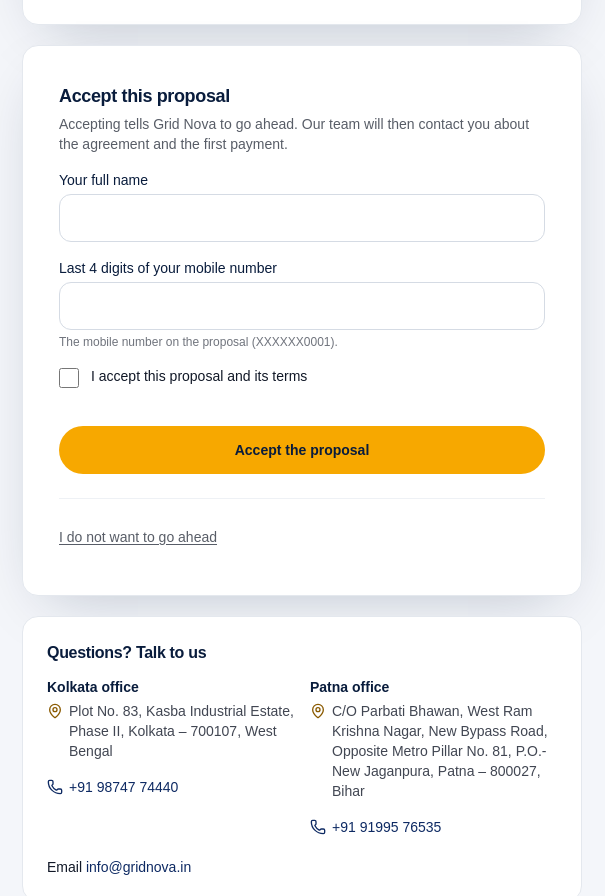
it: the online proposal page › the box must be ticked and the name given before anything is sent
This screenshot has width=605, height=896.
(page scrolled)
Click the button with test id "accept-submit".
click(302, 450)  # box [59,426,545,474]
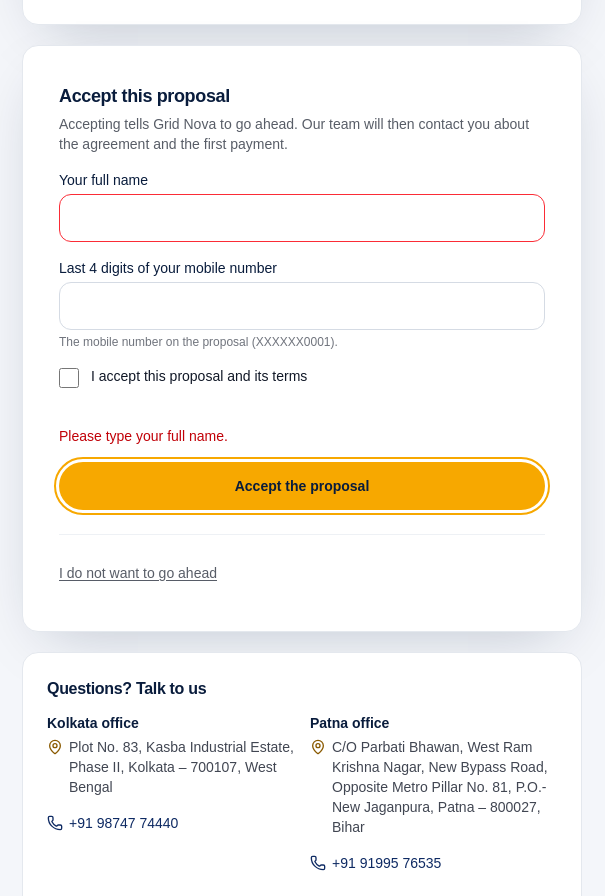
expect the message reads "Please type your full name.": met, box [59,428,228,444]
Type "T" into the field labelled "Your full name".
click(302, 218); type("T")  # box [59,194,545,242]
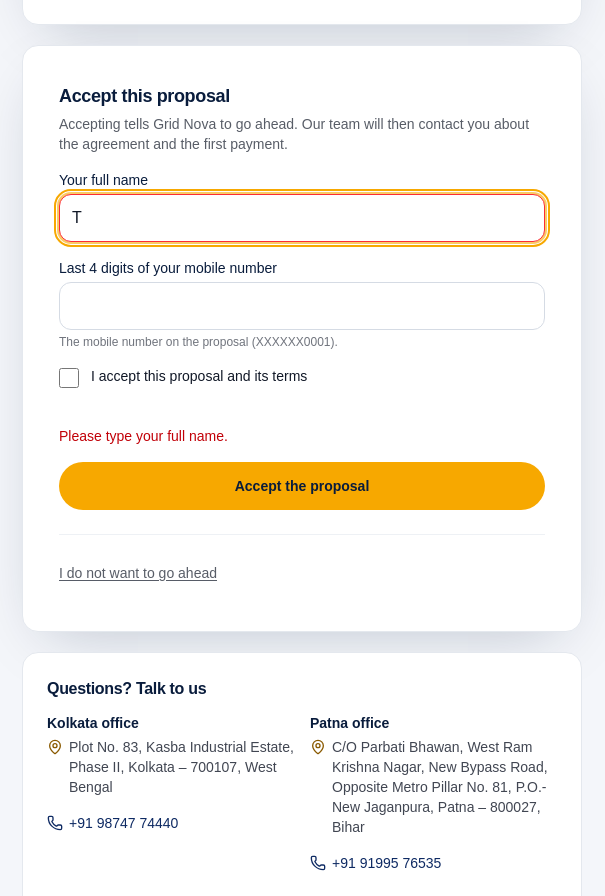
Type "0001" into the field labelled "Last 4 digits of your mobile number".
click(302, 306); type("0001")  # box [59,282,545,330]
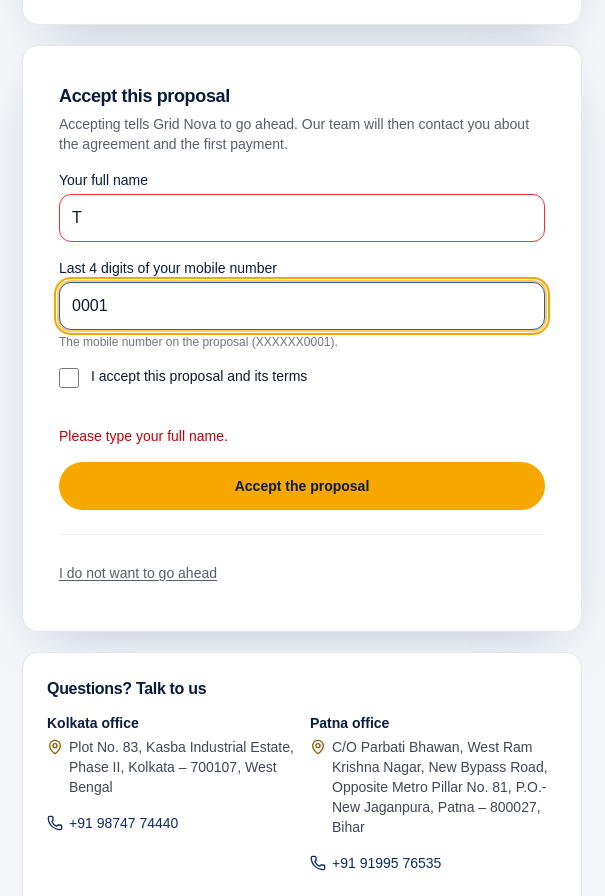
Click the button with test id "accept-submit".
click(302, 486)  # box [59,462,545,510]
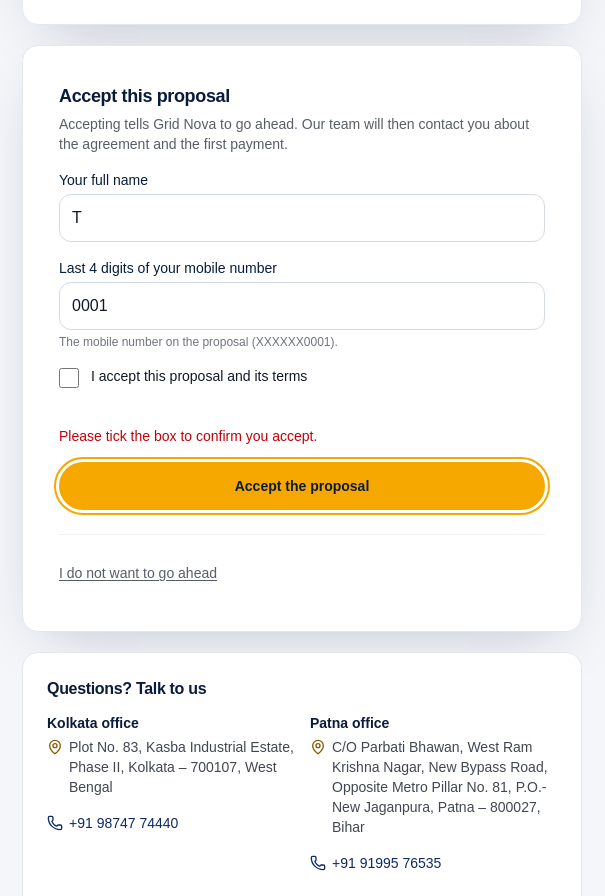
expect the message shows "Please tick the box": met, box [59,428,317,444]
